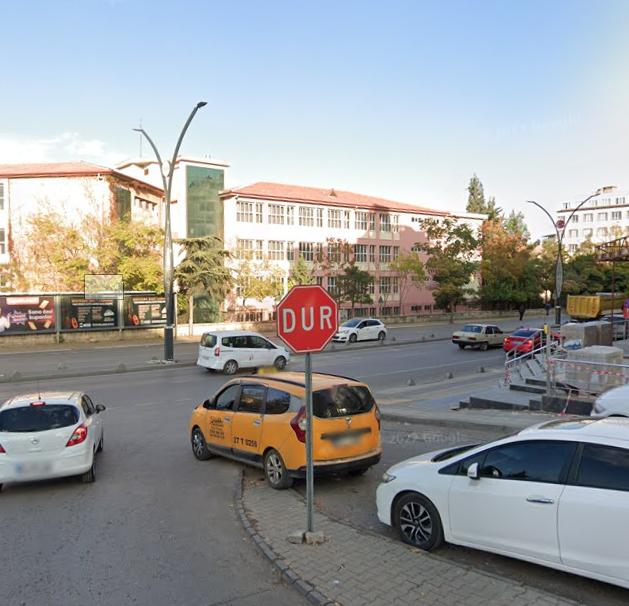stop: (279, 284, 338, 354)
